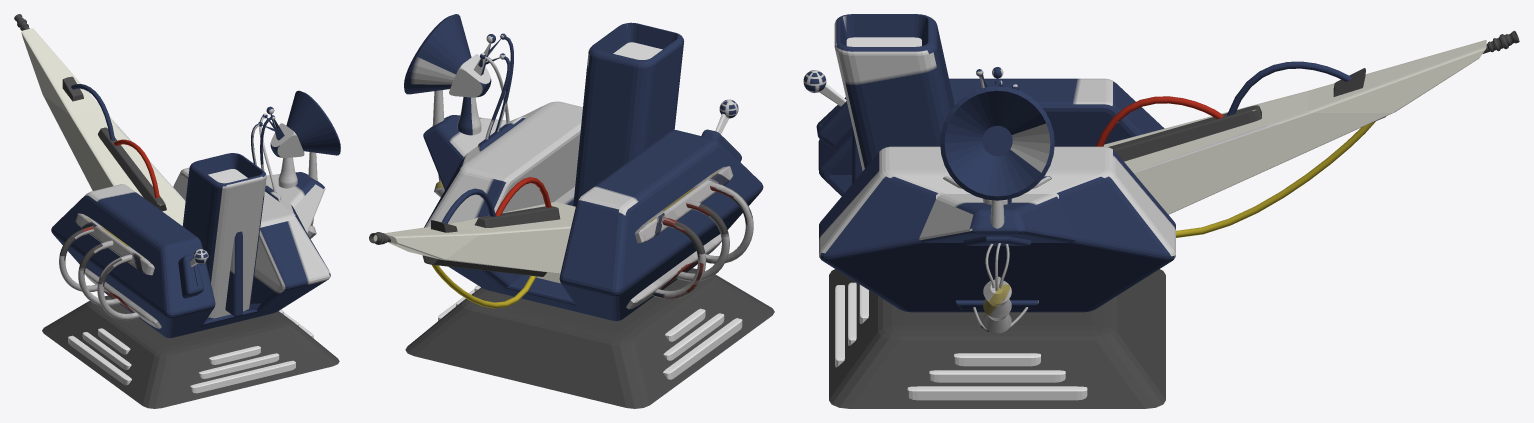
File: ArmaLunar.fbx
3 renders of one model, left to right at view 1: azimuth 30°, elevation 25°; view 2: azimuth 150°, elevation 25°; view 3: azimuth 270°, elevation 25°, orthographic. The views are drawn at different scales.
Visible parts, largest first — view 1: Cube.001, Cube, Cube.008, Cube.004, Cube.003, Cube.002, Cube.005, Cube.006; view 2: Cube.001, Cube, Cube.004, Cube.008, Cube.002, Cube.003, Cube.007; view 3: Cube.001, Cube, Cube.008, Cube.004, Cube.003, Cube.002, Cube.006, Cube.007.
Boxes of the visible parts, bbox=[...] form: Cube.001: bbox=[51, 90, 340, 338]; Cube: bbox=[42, 295, 339, 408]; Cube.008: bbox=[14, 14, 185, 225]; Cube.004: bbox=[182, 153, 266, 318]; Cube.003: bbox=[68, 309, 313, 393]; Cube.002: bbox=[59, 213, 316, 328]; Cube.005: bbox=[225, 231, 242, 316]; Cube.006: bbox=[178, 254, 203, 298]; Cube.001: bbox=[404, 14, 763, 321]; Cube: bbox=[405, 268, 774, 408]; Cube.004: bbox=[573, 22, 684, 206]; Cube.008: bbox=[369, 177, 575, 308]; Cube.002: bbox=[434, 166, 753, 309]; Cube.003: bbox=[438, 285, 742, 379]; Cube.007: bbox=[715, 99, 738, 134]; Cube.001: bbox=[818, 67, 1175, 312]; Cube: bbox=[829, 269, 1165, 408]; Cube.008: bbox=[1096, 30, 1519, 237]; Cube.004: bbox=[834, 14, 954, 170]; Cube.003: bbox=[835, 282, 1087, 400]; Cube.002: bbox=[973, 243, 1028, 333]; Cube.006: bbox=[816, 97, 851, 147]; Cube.007: bbox=[803, 70, 846, 106].
Size of the model in its own units: 1520 by 1290 by 2497.
